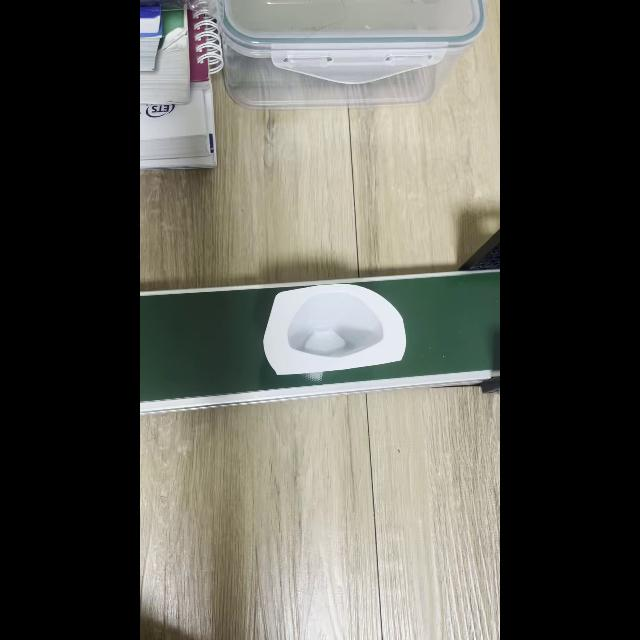clean: (263, 283, 407, 375)
